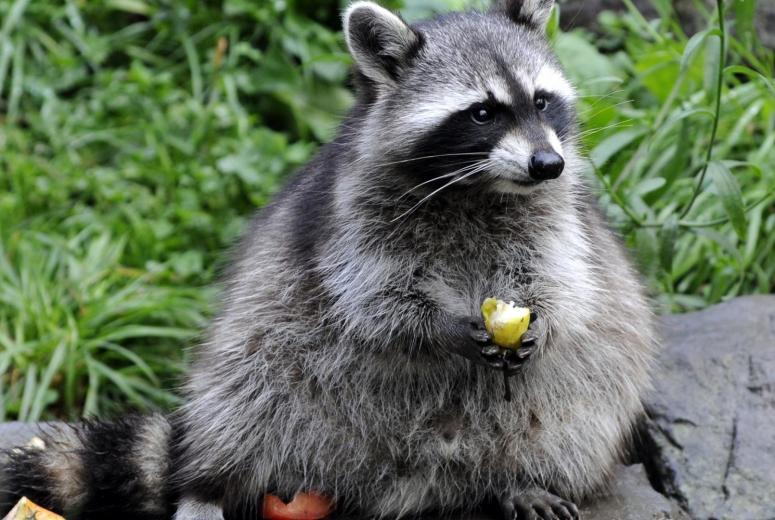raccoon: (4, 2, 656, 520)
